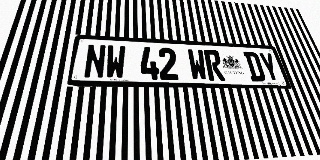2: (158, 47, 179, 80)
4: (140, 46, 160, 80)
D: (243, 52, 267, 82)
N: (83, 44, 106, 79)
R: (203, 50, 226, 81)
W: (105, 45, 126, 79), (187, 49, 208, 81)
Y: (258, 52, 282, 82)
